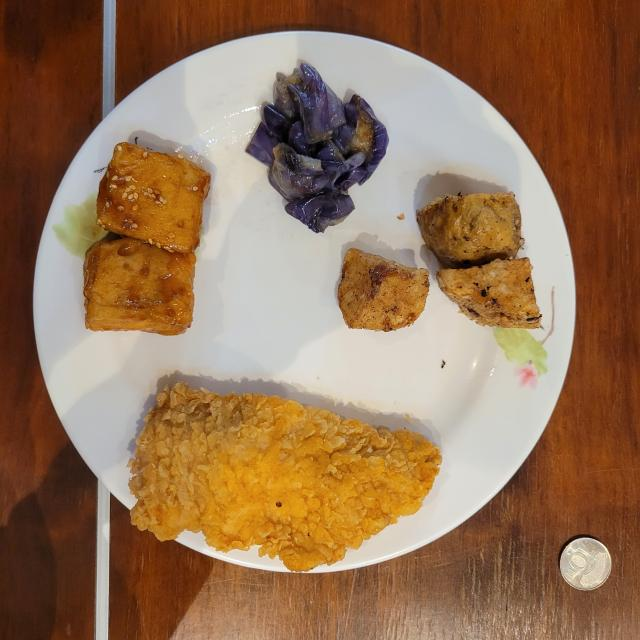coin: (560, 538, 611, 590)
creamy tofu: (84, 142, 211, 335)
fried chicken cutlet: (129, 382, 441, 571)
fried potato: (418, 192, 541, 329), (338, 249, 429, 331)
